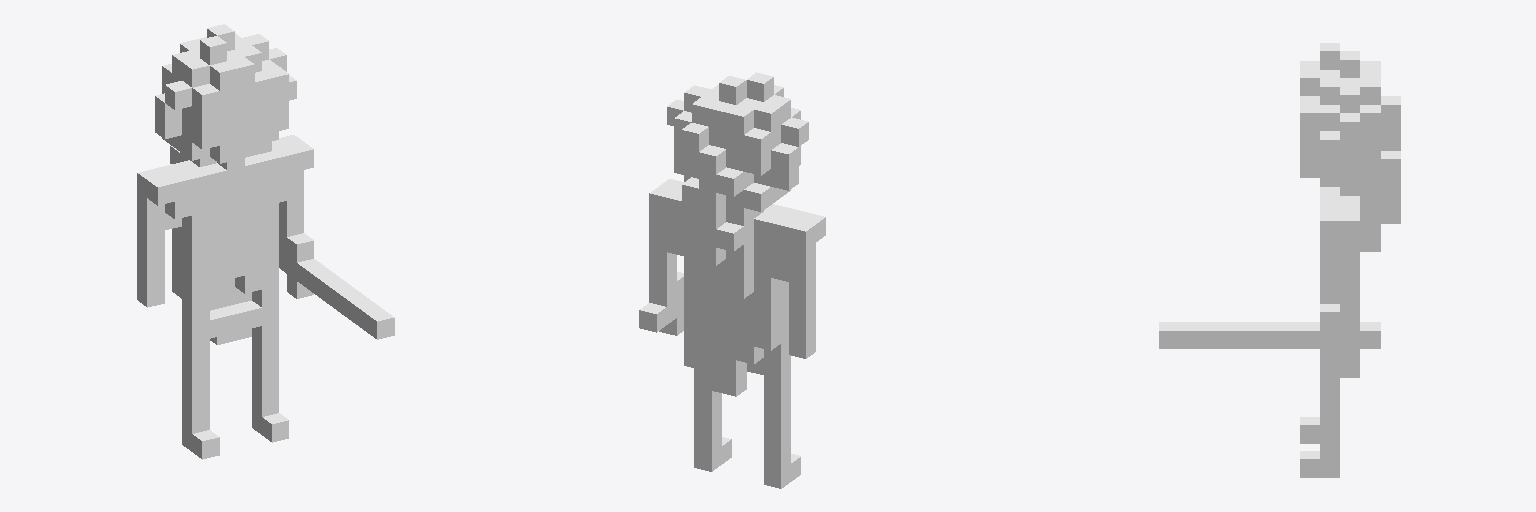
File: SpinningGirlCharacter-0.obj
The picture shows the model from 3 angles: view 1: azimuth 30°, elevation 25°; view 2: azimuth 150°, elevation 25°; view 3: azimuth 270°, elevation 25°; orthographic projection.
Visible parts, largest first — view 1: SpinningGirlCharacter-0; view 2: SpinningGirlCharacter-0; view 3: SpinningGirlCharacter-0.
Part boxes in pixels (left/top/right/bottom): SpinningGirlCharacter-0: left=137, top=24, right=394, bottom=459; SpinningGirlCharacter-0: left=639, top=72, right=825, bottom=488; SpinningGirlCharacter-0: left=1159, top=43, right=1400, bottom=477.
Bounding box in the file's own units: 9 × 22 × 12.